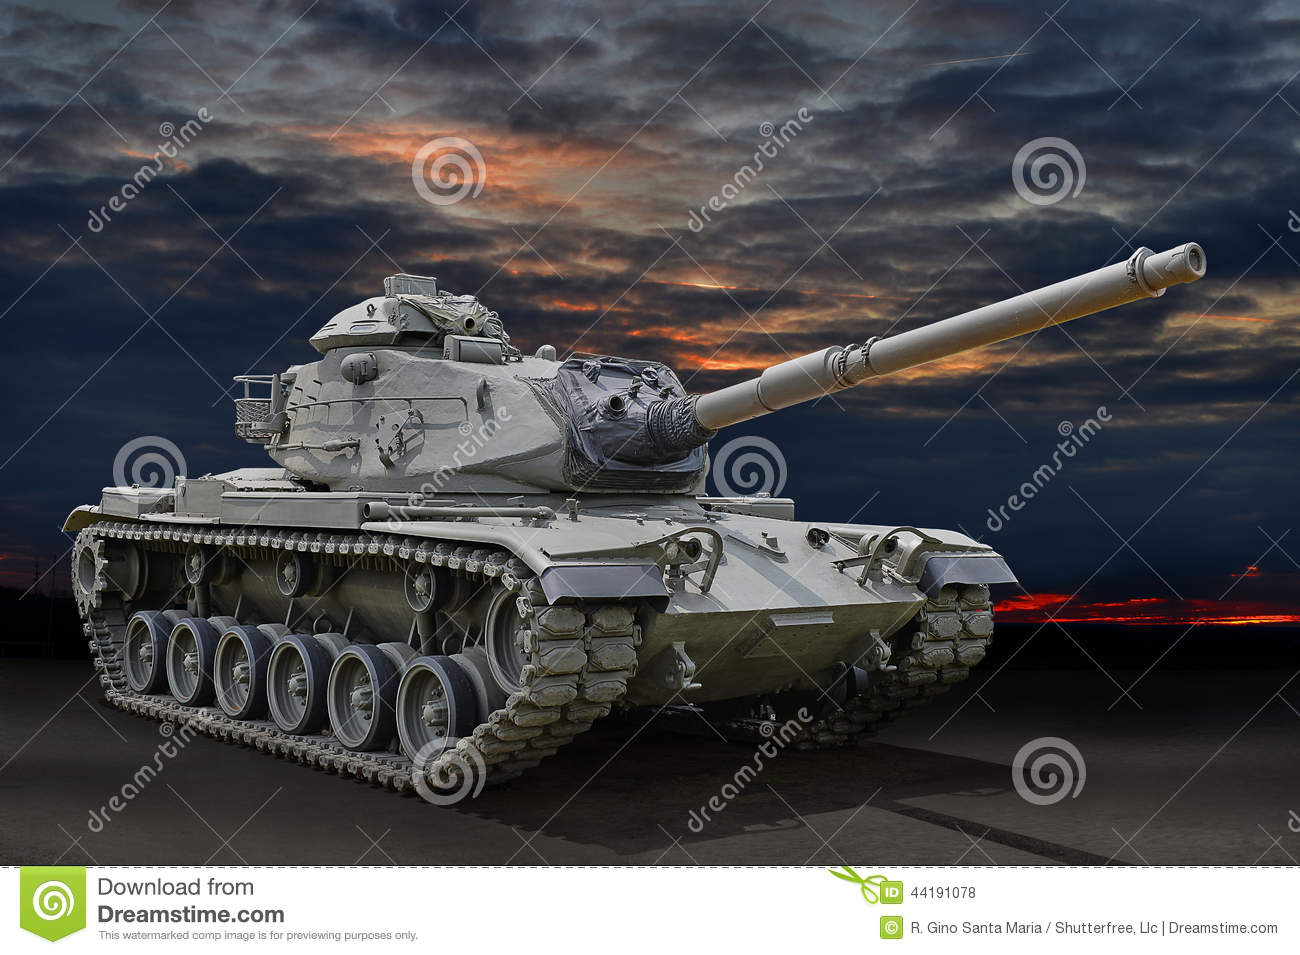m60: (111, 262, 1208, 760)
